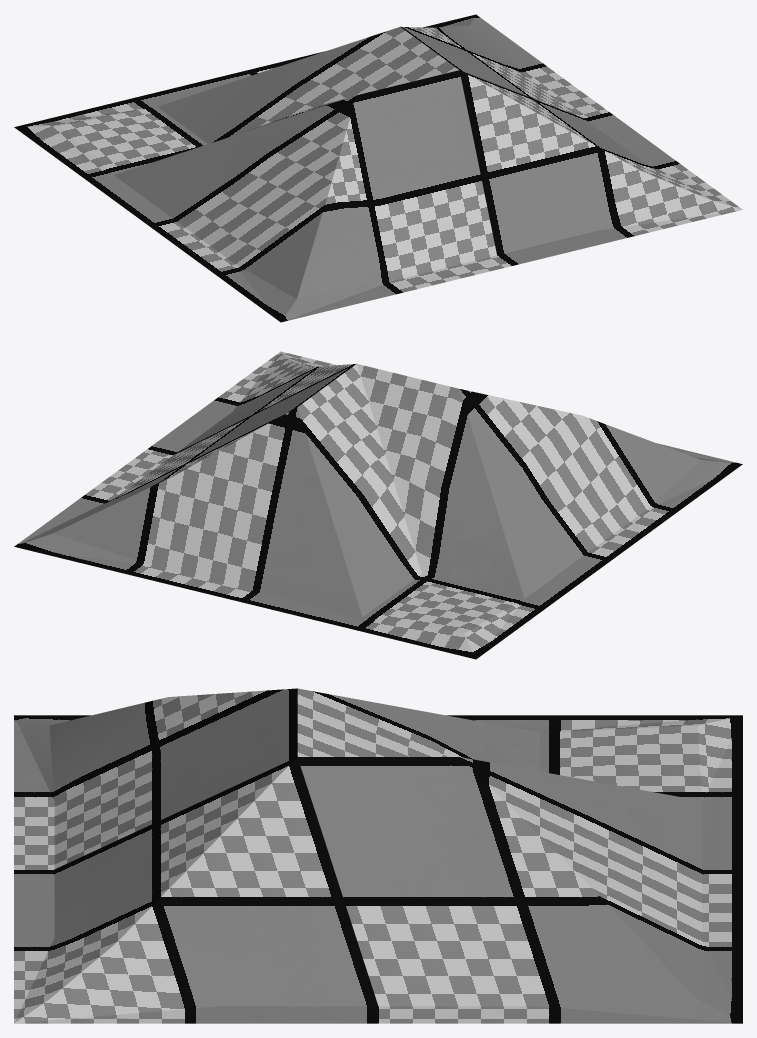
File: roof_6547463.glb
The picture shows the model from 3 angles, top to bottom: view 1: azimuth 30°, elevation 25°; view 2: azimuth 150°, elevation 25°; view 3: azimuth 270°, elevation 25°; orthographic projection. The views are drawn at different scales.
Parts seen in each view (by area): view 1: mesh; view 2: mesh; view 3: mesh.
Boxes of the visible parts, x1,y1,x2,y2 form: mesh: [14, 14, 742, 322]; mesh: [14, 351, 742, 659]; mesh: [14, 688, 742, 1023].
Bounding box in the file's own units: 18 × 4 × 18.
Materials: 1 (1 with a texture image).
